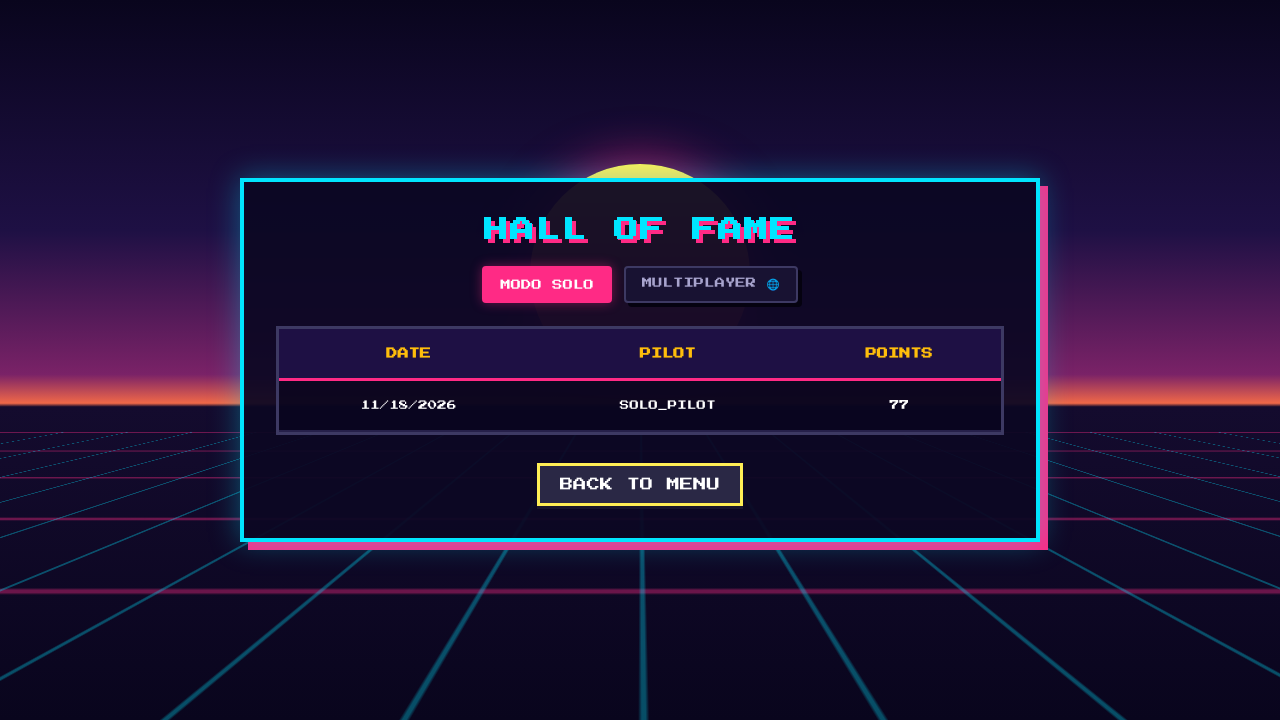
Test: ScoreboardView › renders solo scores tab by default and switches to multiplayer tab
Later steps or results of the test are not shown.
Expected: the heading "HALL OF FAME" is shown, [484,218,796,242]
Expected: the button "MODO SOLO" is shown, [482,266,612,303]
# Switch to Multiplayer tab
What coordinates should you click on to do the following:
click the button "MULTIPLAYER 🌐"
I would click on:
 (711, 285)
Its box is [624,266,798,303].
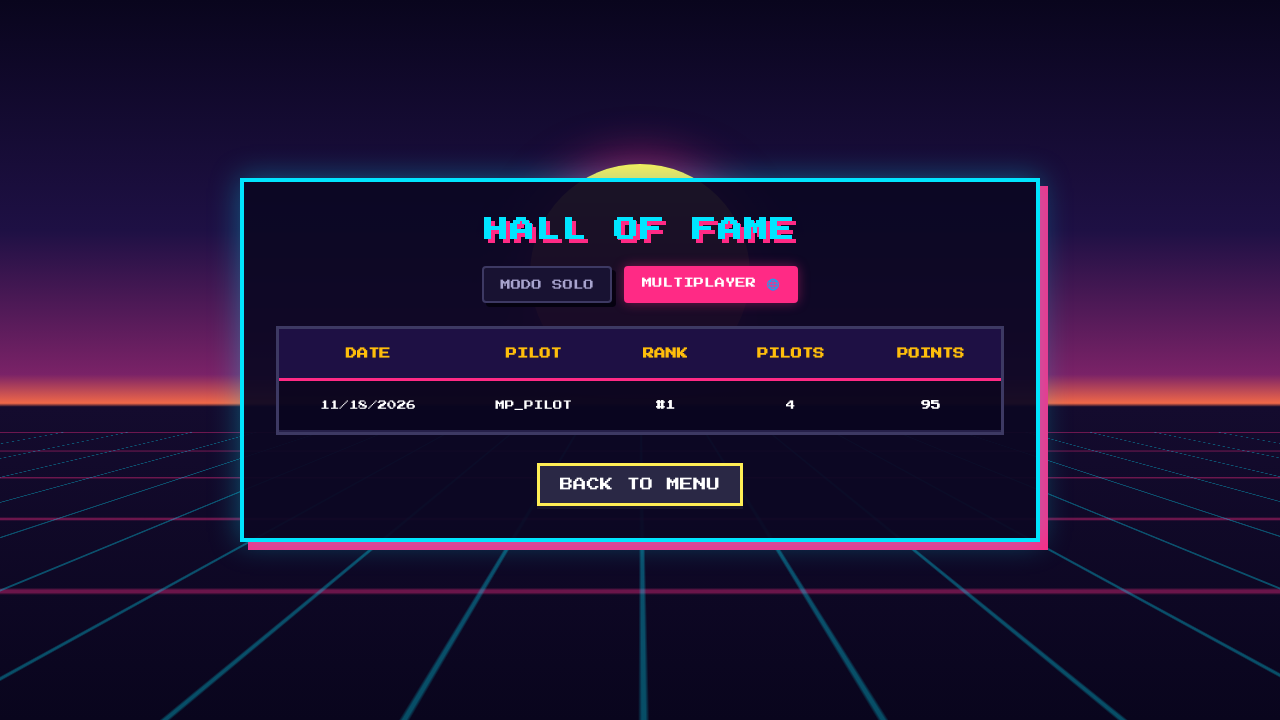
Expected: the column heading "RANK" is shown, [610,329,721,380]
Expected: the text "#1" is shown, [610,380,721,431]
Expected: the text "95" is shown, [861,380,1001,431]
# Switch back to Solo tab
What coordinates should you click on to do the following:
click the button "MODO SOLO"
I would click on:
 (547, 285)
Its box is [482,266,612,303].
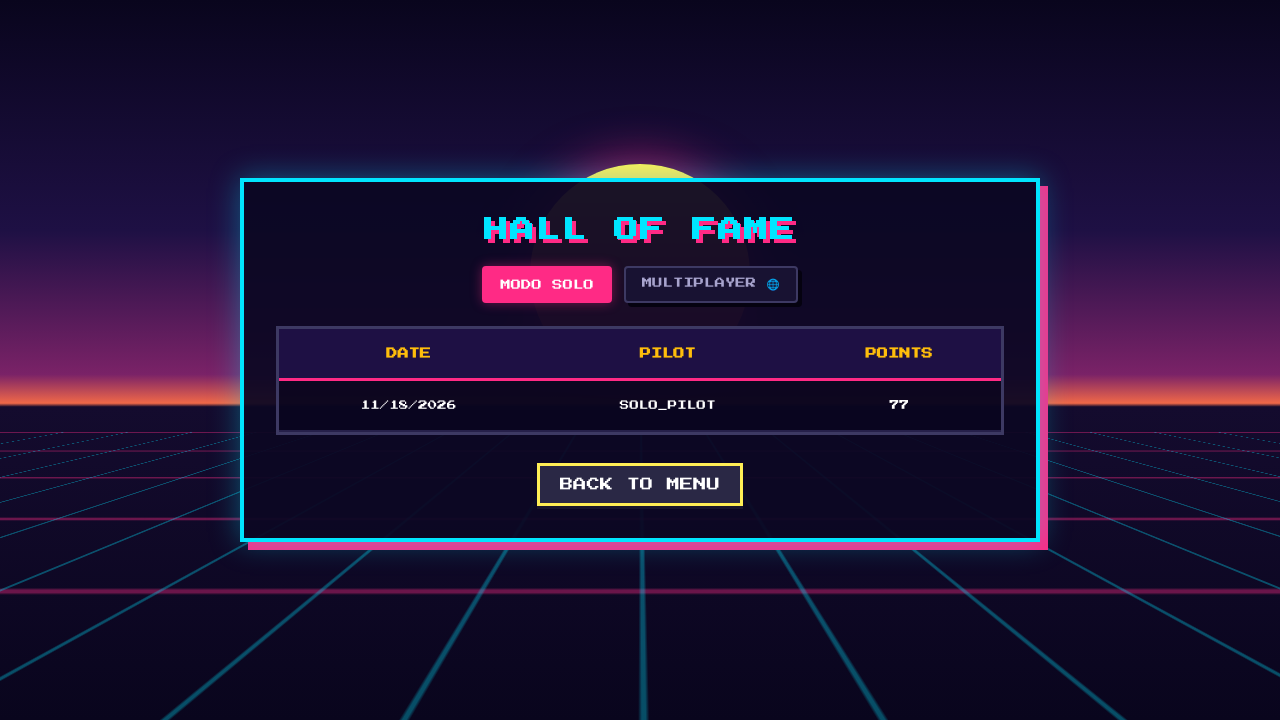
Expected: the text "77" is shown, [797,380,1001,431]
